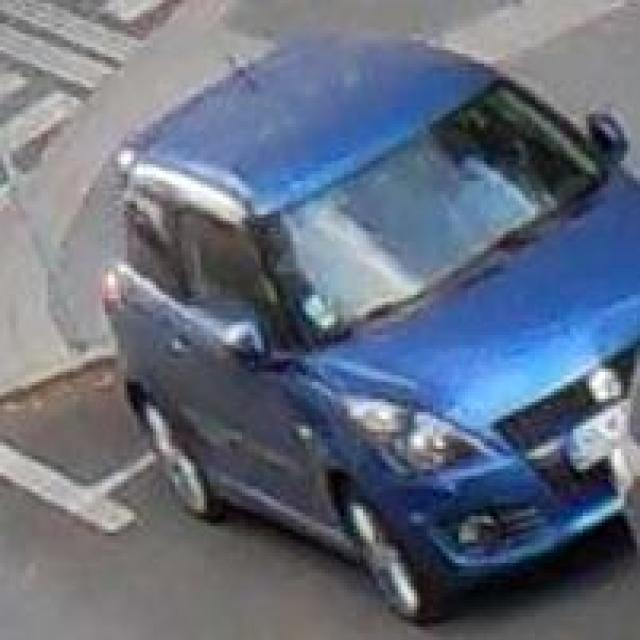Car: (102, 30, 640, 627)
